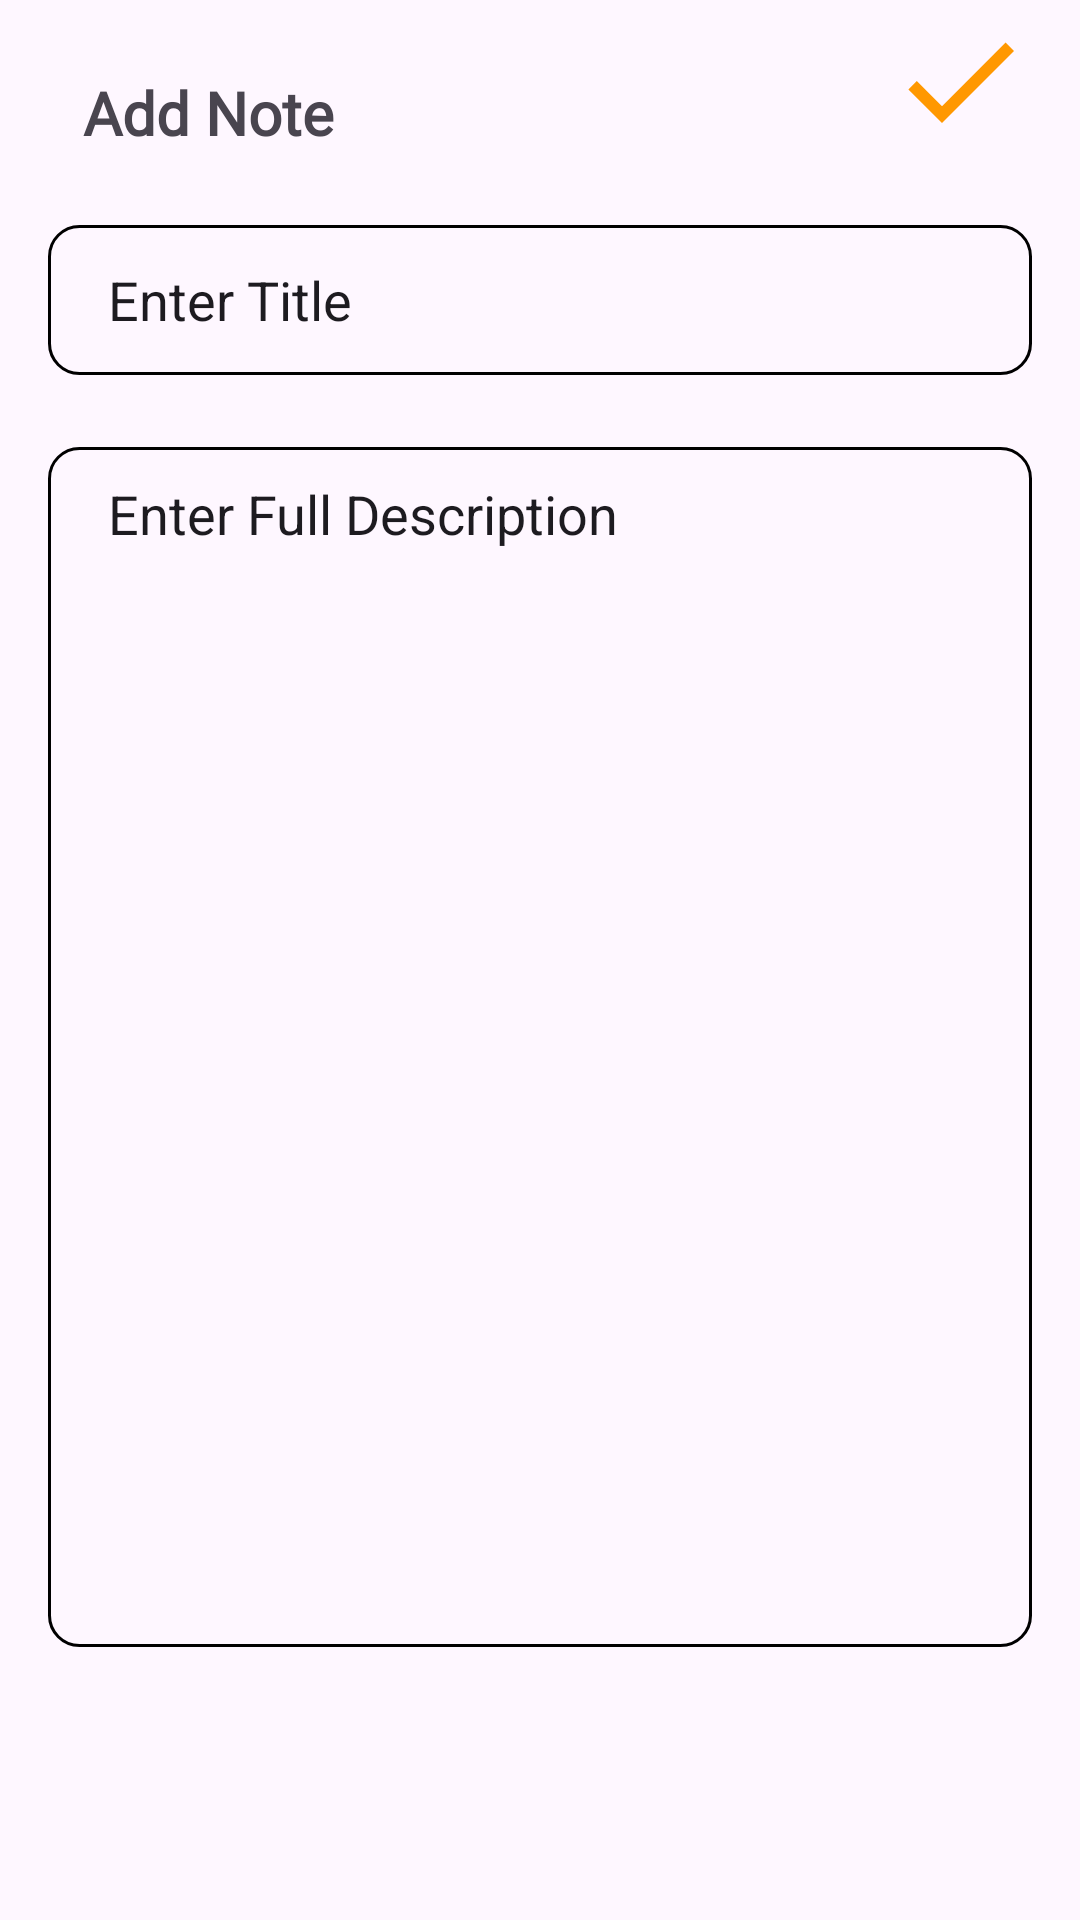

Icon bounding boxes for this 1080 x 1920 phone screenshot, format (x1, y1, x2, y2):
done: (908, 42, 1014, 123)
